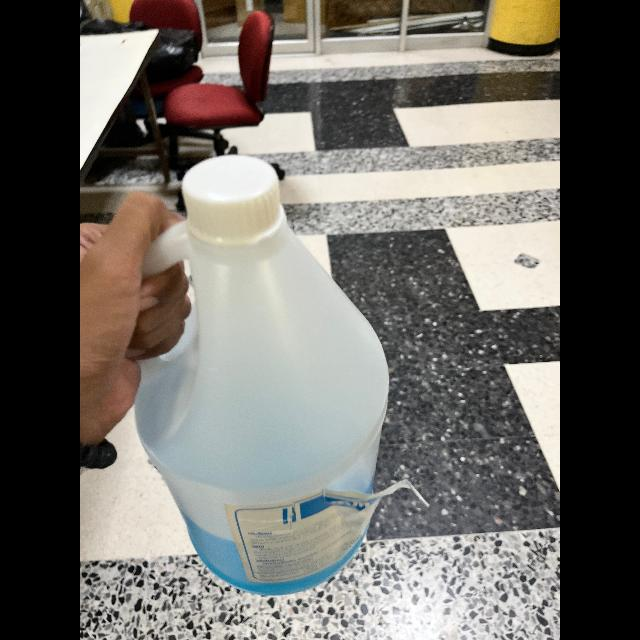chemical_plastic_gallon: (111, 152, 397, 596)
